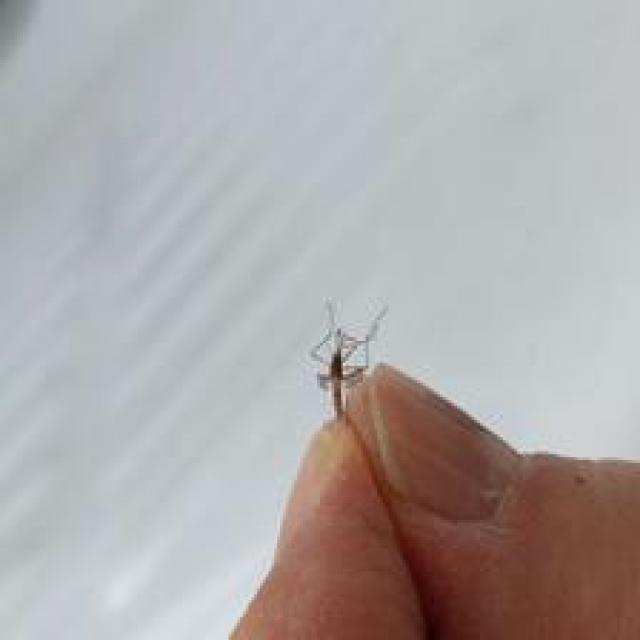Culex: (308, 297, 388, 423)
